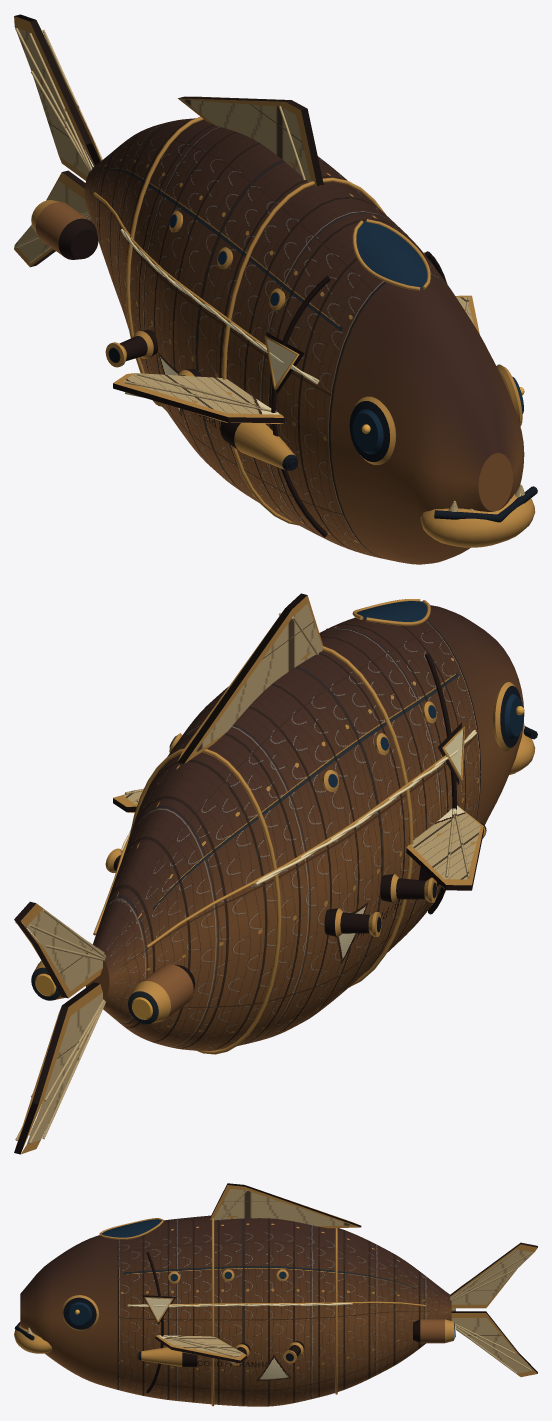
The picture shows the model from 3 angles, top to bottom: view 1: azimuth 30°, elevation 25°; view 2: azimuth 150°, elevation 25°; view 3: azimuth 270°, elevation 25°; orthographic projection. The views are drawn at different scales.
Parts seen in each view (by area): view 1: piranha_hull; view 2: piranha_hull; view 3: piranha_hull.
Boxes of the visible parts, left/top/right/bottom form: piranha_hull: left=14, top=14, right=537, bottom=564; piranha_hull: left=14, top=593, right=537, bottom=1154; piranha_hull: left=14, top=1183, right=537, bottom=1406.
Bounding box in the file's own units: 6.42 × 6.94 × 15.
1 material, 1 textured.
